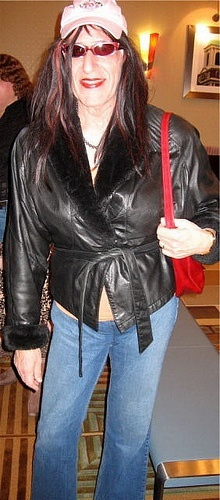head: (57, 1, 131, 104)
person: (1, 12, 215, 493)
